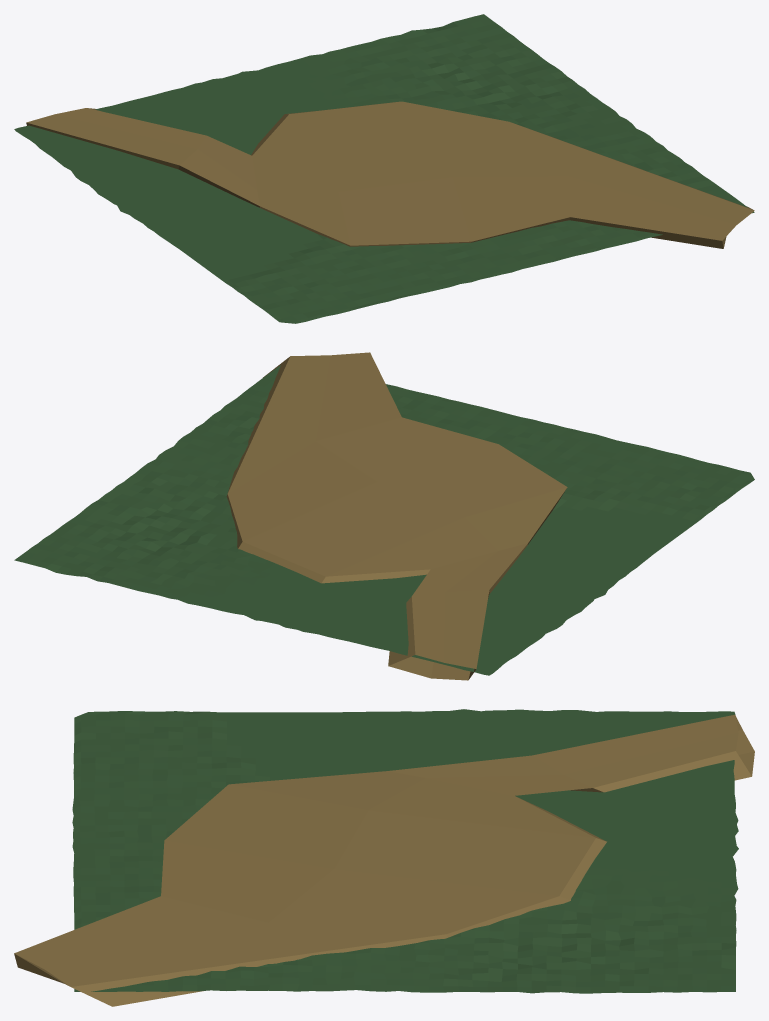
Rendered from athili_copse_section20.glb.
3 renders of one model, top to bottom at view 1: azimuth 30°, elevation 25°; view 2: azimuth 150°, elevation 25°; view 3: azimuth 270°, elevation 25°, orthographic. The views are drawn at different scales.
Parts seen in each view (by area): view 1: Grass, Road; view 2: Grass, Road; view 3: Grass, Road.
Boxes of the visible parts, x1,y1,x2,y2 form: Grass: [14, 14, 754, 323]; Road: [26, 101, 754, 248]; Grass: [14, 365, 754, 675]; Road: [226, 352, 567, 680]; Grass: [72, 709, 738, 993]; Road: [14, 714, 754, 1006].
Size of the model in its own units: 60.93 by 1.79 by 66.24.
